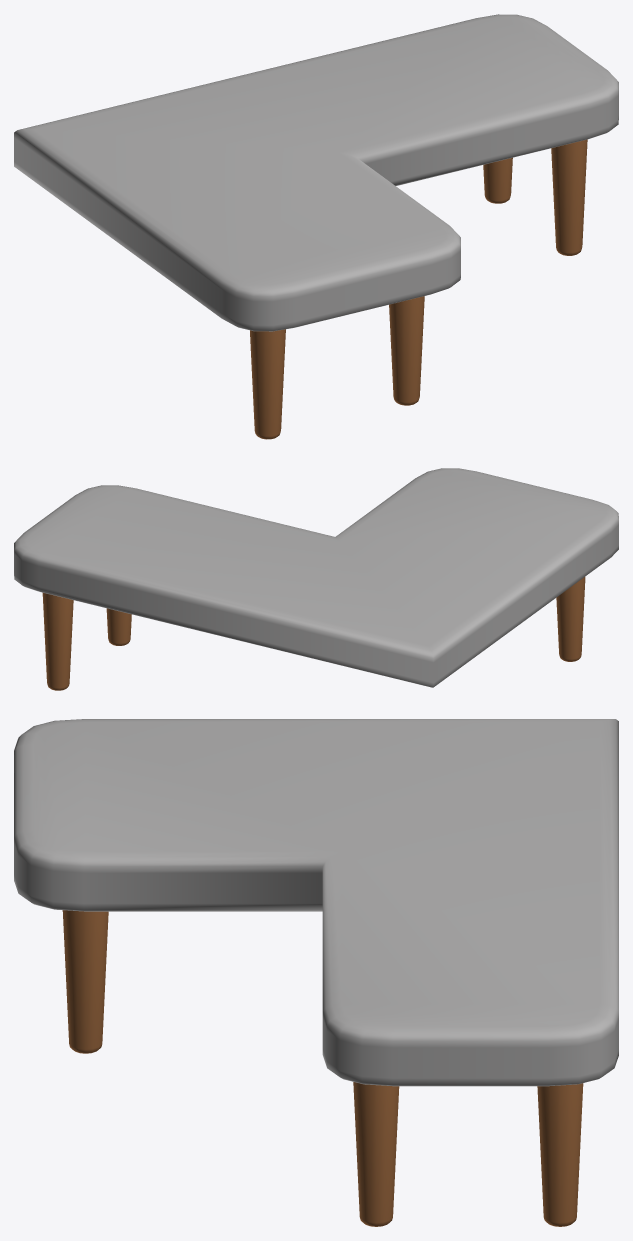
The model's file is TableComputer.FBX.
3 renders of one model, top to bottom at view 1: azimuth 30°, elevation 25°; view 2: azimuth 150°, elevation 25°; view 3: azimuth 270°, elevation 25°, orthographic. The views are drawn at different scales.
Parts seen in each view (by area): view 1: TableComputer; view 2: TableComputer; view 3: TableComputer.
Part boxes in pixels (x1,y1,x2,y2): TableComputer: (14, 14, 618, 439); TableComputer: (14, 468, 618, 690); TableComputer: (14, 719, 618, 1226).
Size of the model in its own units: 48.17 by 15.27 by 38.5.
